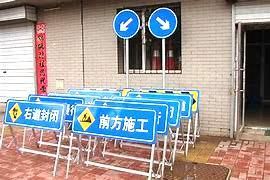sign: (75, 106, 156, 141), (7, 102, 61, 129)
